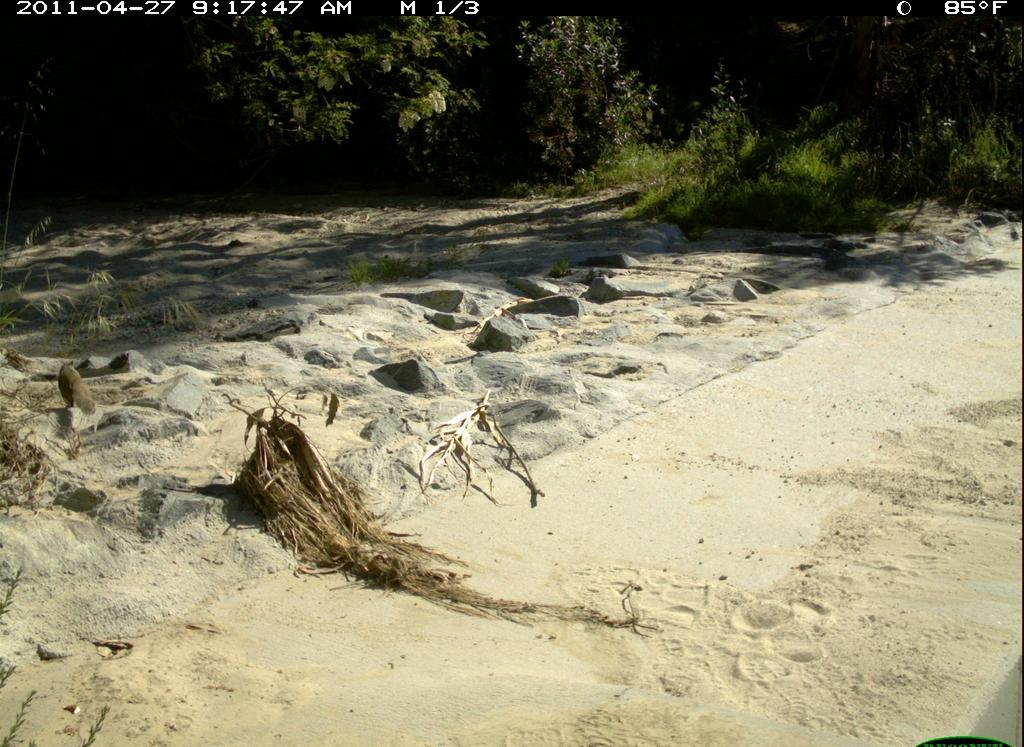squirrel: (53, 353, 108, 428)
